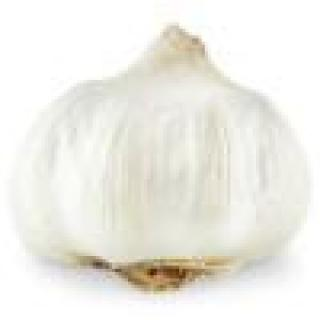Bawang Putih: (4, 14, 318, 292)
